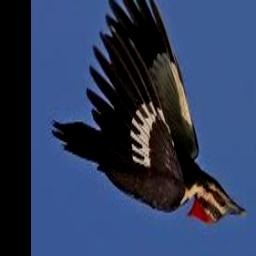Woodpecker: (51, 0, 246, 226)
